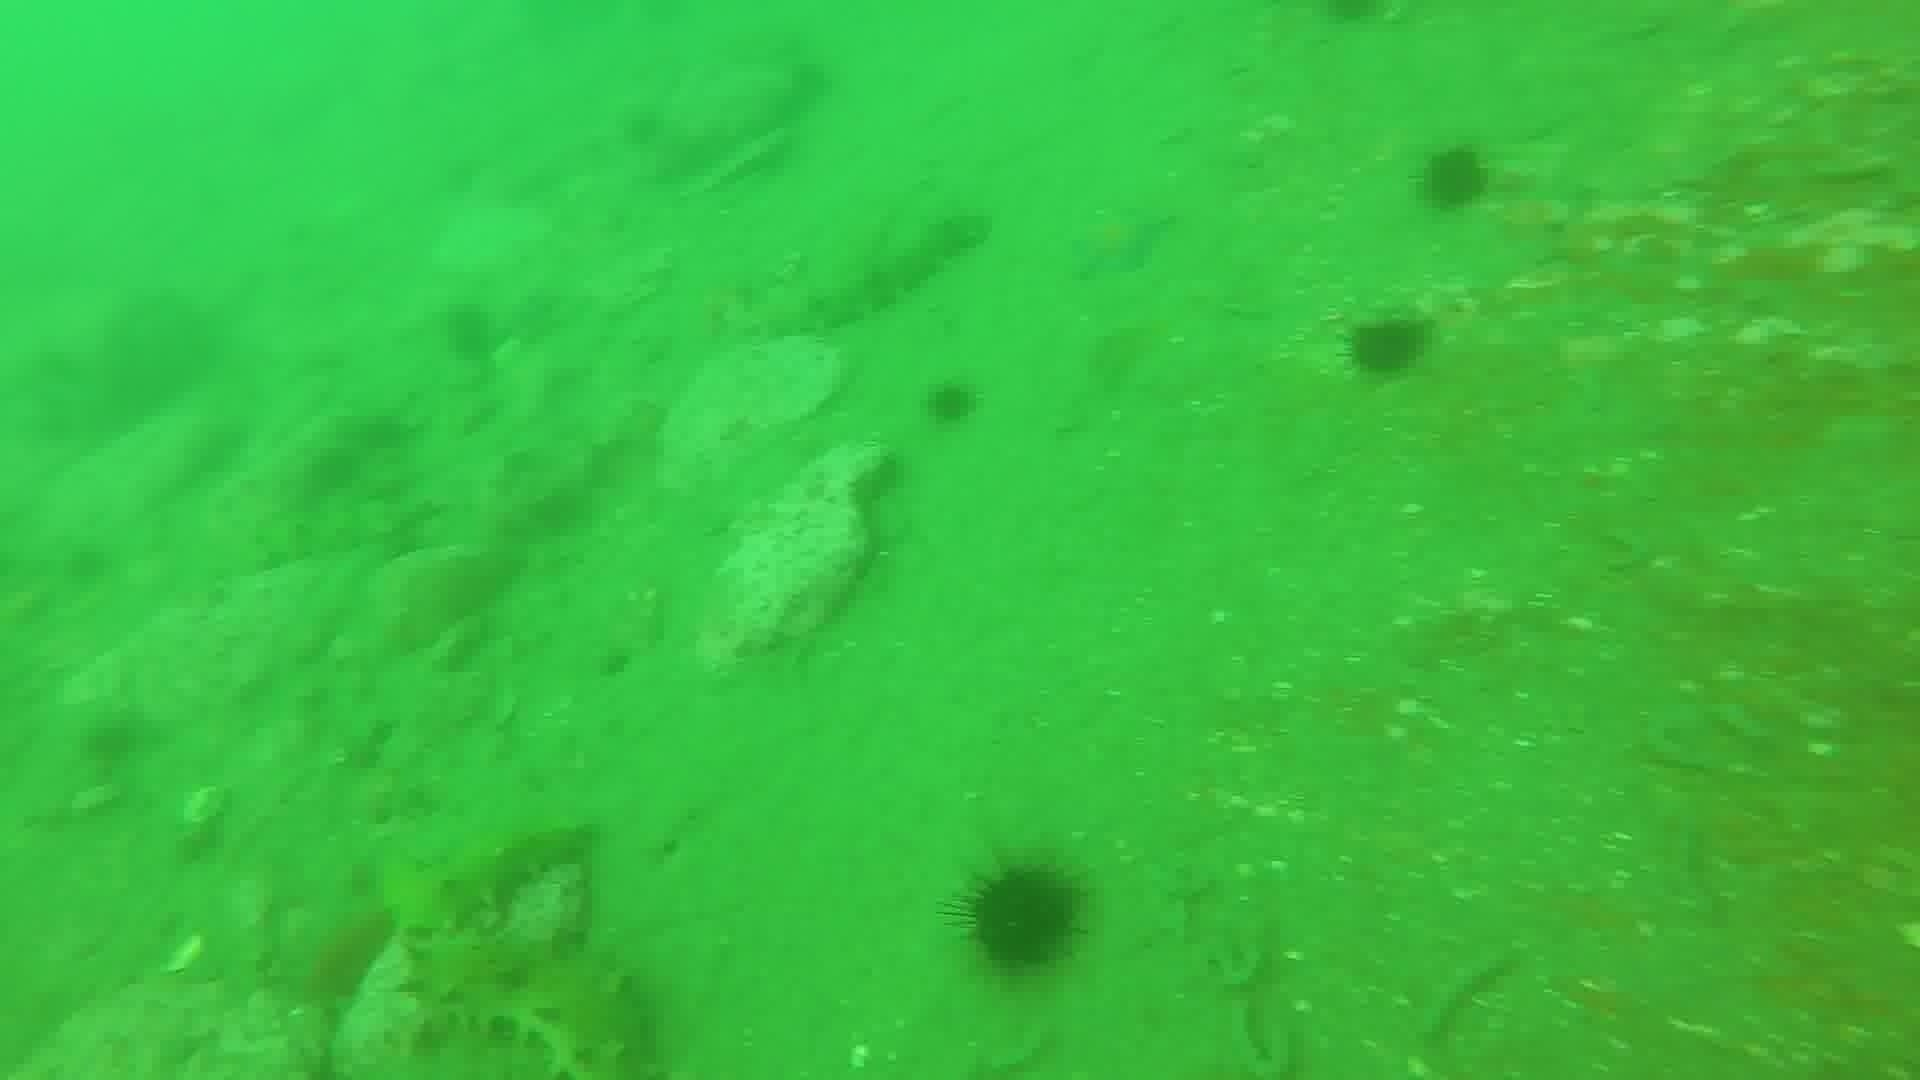echinus: (951, 855, 1088, 977), (1341, 309, 1433, 384), (1412, 141, 1495, 215), (436, 298, 506, 368), (919, 375, 985, 431)
holothurian: (392, 924, 662, 1071), (727, 200, 989, 345), (371, 818, 596, 942)
starfish: (1063, 198, 1176, 284)
